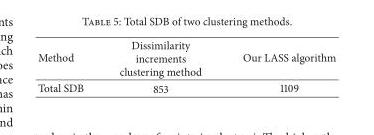table: (37, 37, 335, 96)
table column: (100, 37, 221, 96), (221, 37, 335, 96), (37, 37, 100, 96)
table column header: (37, 37, 335, 79)
table row: (37, 37, 335, 79), (37, 79, 335, 96)
